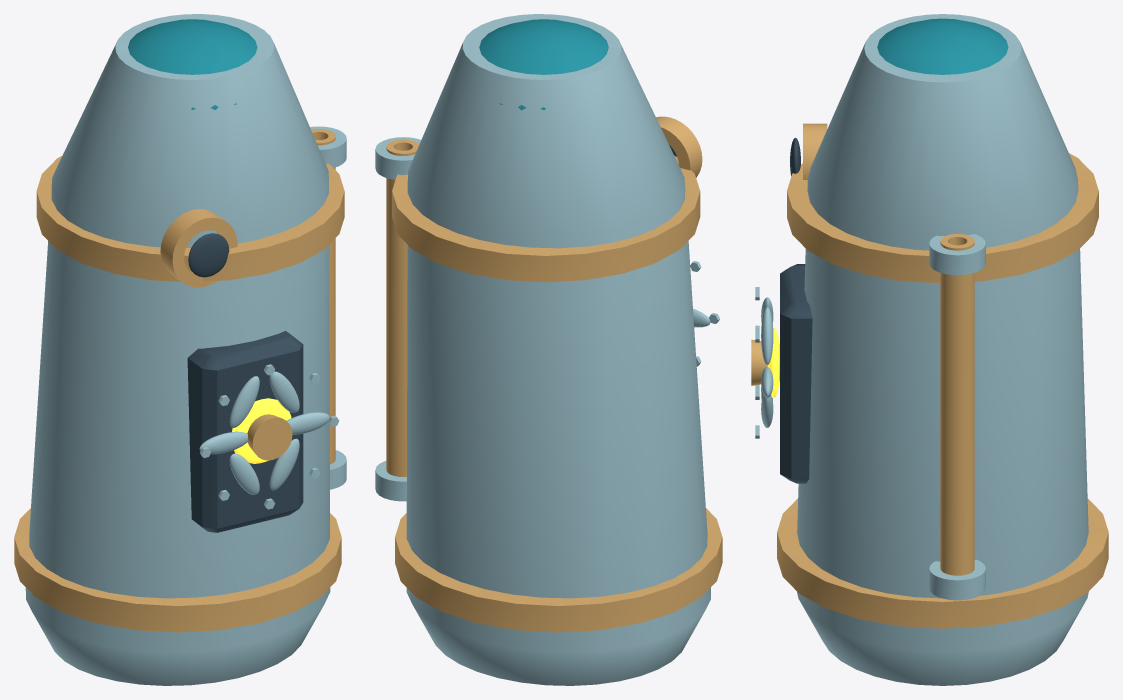
File: PressureVessel.glb
3 views of the same model, side by side, from view 1: azimuth 30°, elevation 25°; view 2: azimuth 150°, elevation 25°; view 3: azimuth 270°, elevation 25° (orthographic).
Visible parts, largest first — view 1: vessel, fan; view 2: vessel; view 3: vessel, fan.
Boxes of the visible parts, x1=… form: vessel: x1=14, y1=14, x2=346, y2=685; fan: x1=199, y1=371, x2=329, y2=494; vessel: x1=375, y1=14, x2=722, y2=685; vessel: x1=755, y1=14, x2=1108, y2=685; fan: x1=751, y1=297, x2=779, y2=427.
Size of the model in its own units: 2.99 by 5.45 by 2.91.
